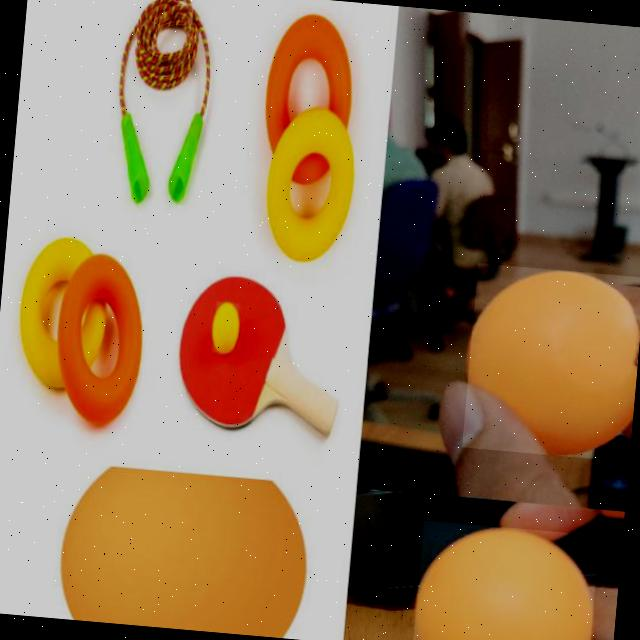ping-pong-ball: (54, 462, 314, 640), (460, 262, 640, 462), (410, 518, 599, 640), (211, 300, 239, 354)
